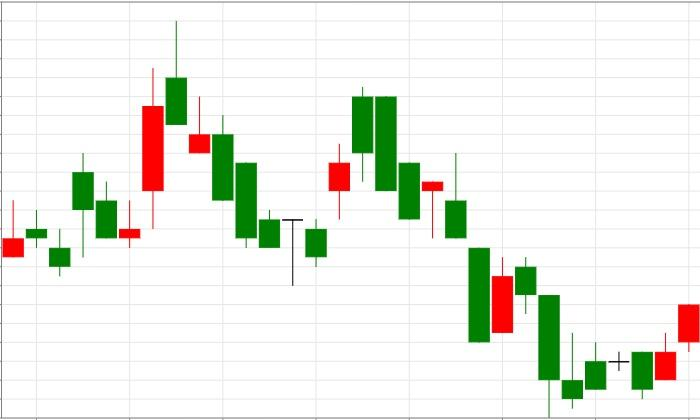inverse_hammer_rise: (352, 86, 583, 418)
